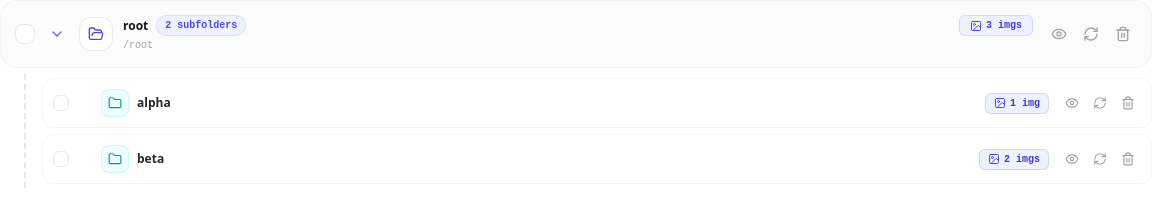
Test: IndexedFolderTree › collapses the subfolders via the root expand button
Click the button titled "Collapse subfolders": [57, 34] box [45,22,69,46]
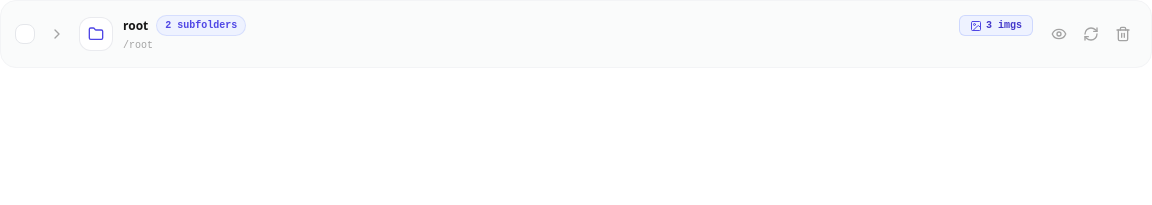
Expected: the text "alpha" is gone
Click the button titled "Expand subfolders": [57, 34] box [45,22,69,46]
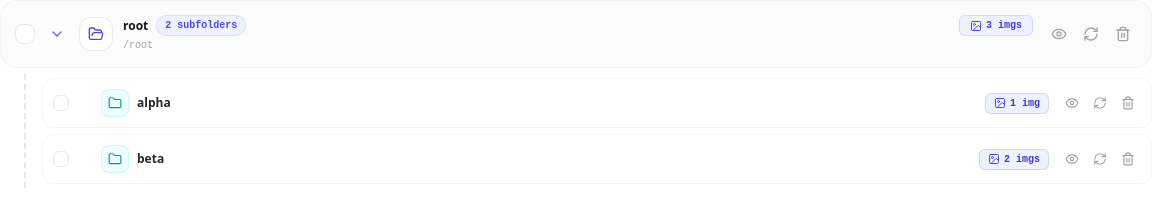
Expected: the text "alpha" is shown, [137,95,171,111]
